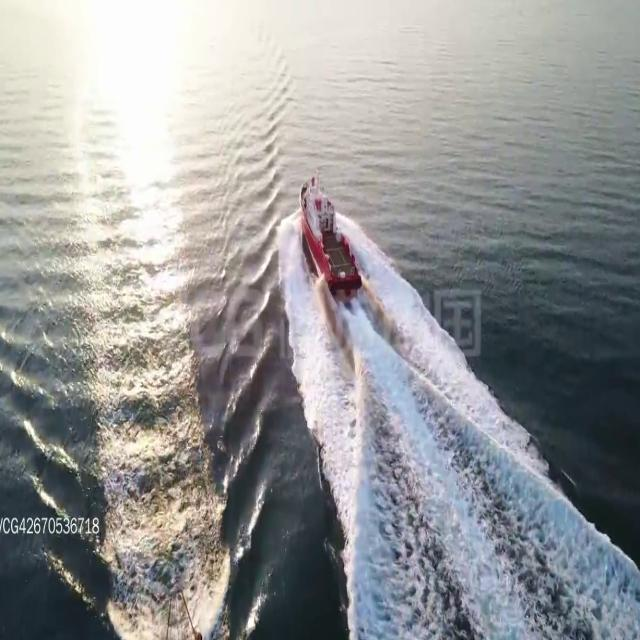houseboat: (296, 172, 362, 288)
